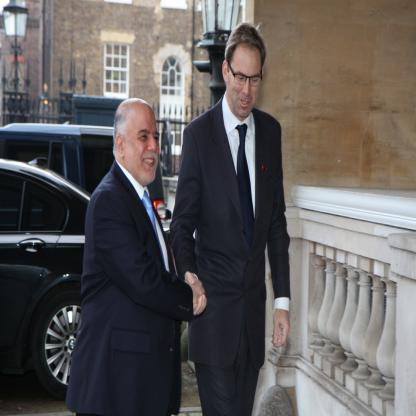Car: (0, 158, 93, 405)
